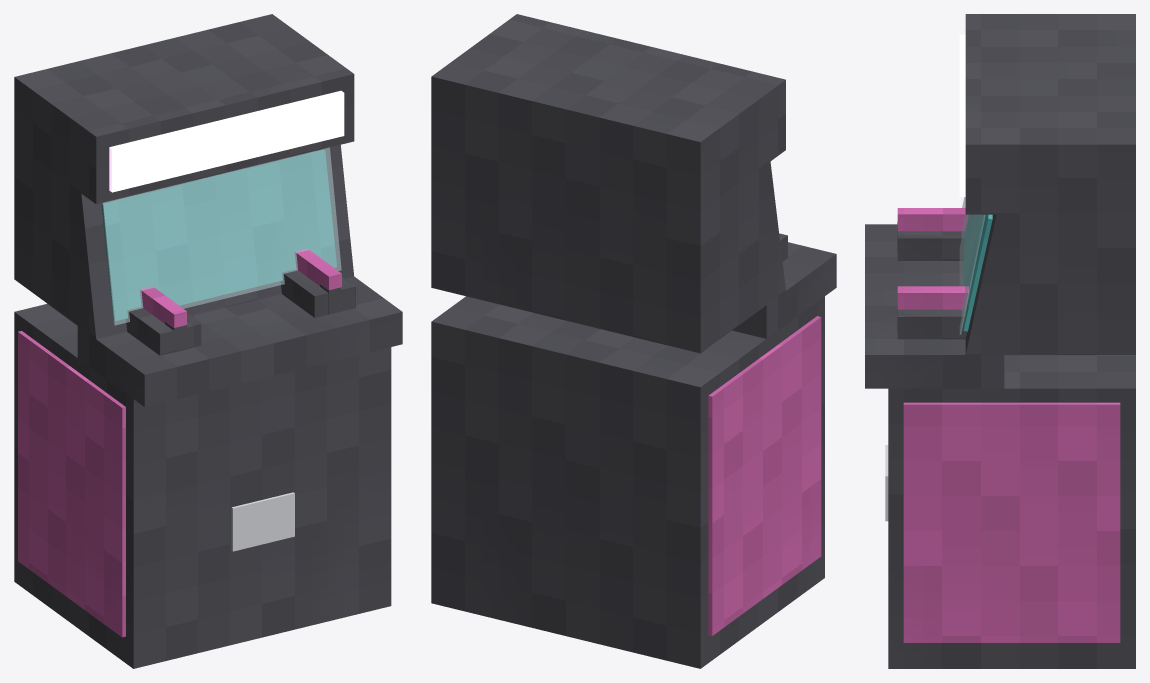
File: three-d-retro-arcade-and-mall-1989-retro-arcade-and-mall-1989-light-gun-cabinet-35454440.glb
The picture shows the model from 3 angles, left to right: view 1: azimuth 30°, elevation 25°; view 2: azimuth 150°, elevation 25°; view 3: azimuth 270°, elevation 25°; orthographic projection. The views are drawn at different scales.
Visible parts, largest first — view 1: light-gun-cabinet; view 2: light-gun-cabinet; view 3: light-gun-cabinet.
Part boxes in pixels (<box>): light-gun-cabinet: <box>14,14,402,668</box>; light-gun-cabinet: <box>431,14,836,668</box>; light-gun-cabinet: <box>865,14,1135,668</box>.
Bounding box in the file's own units: 1.03 × 1.87 × 0.875.
Materials: 6 (3 with a texture image).
